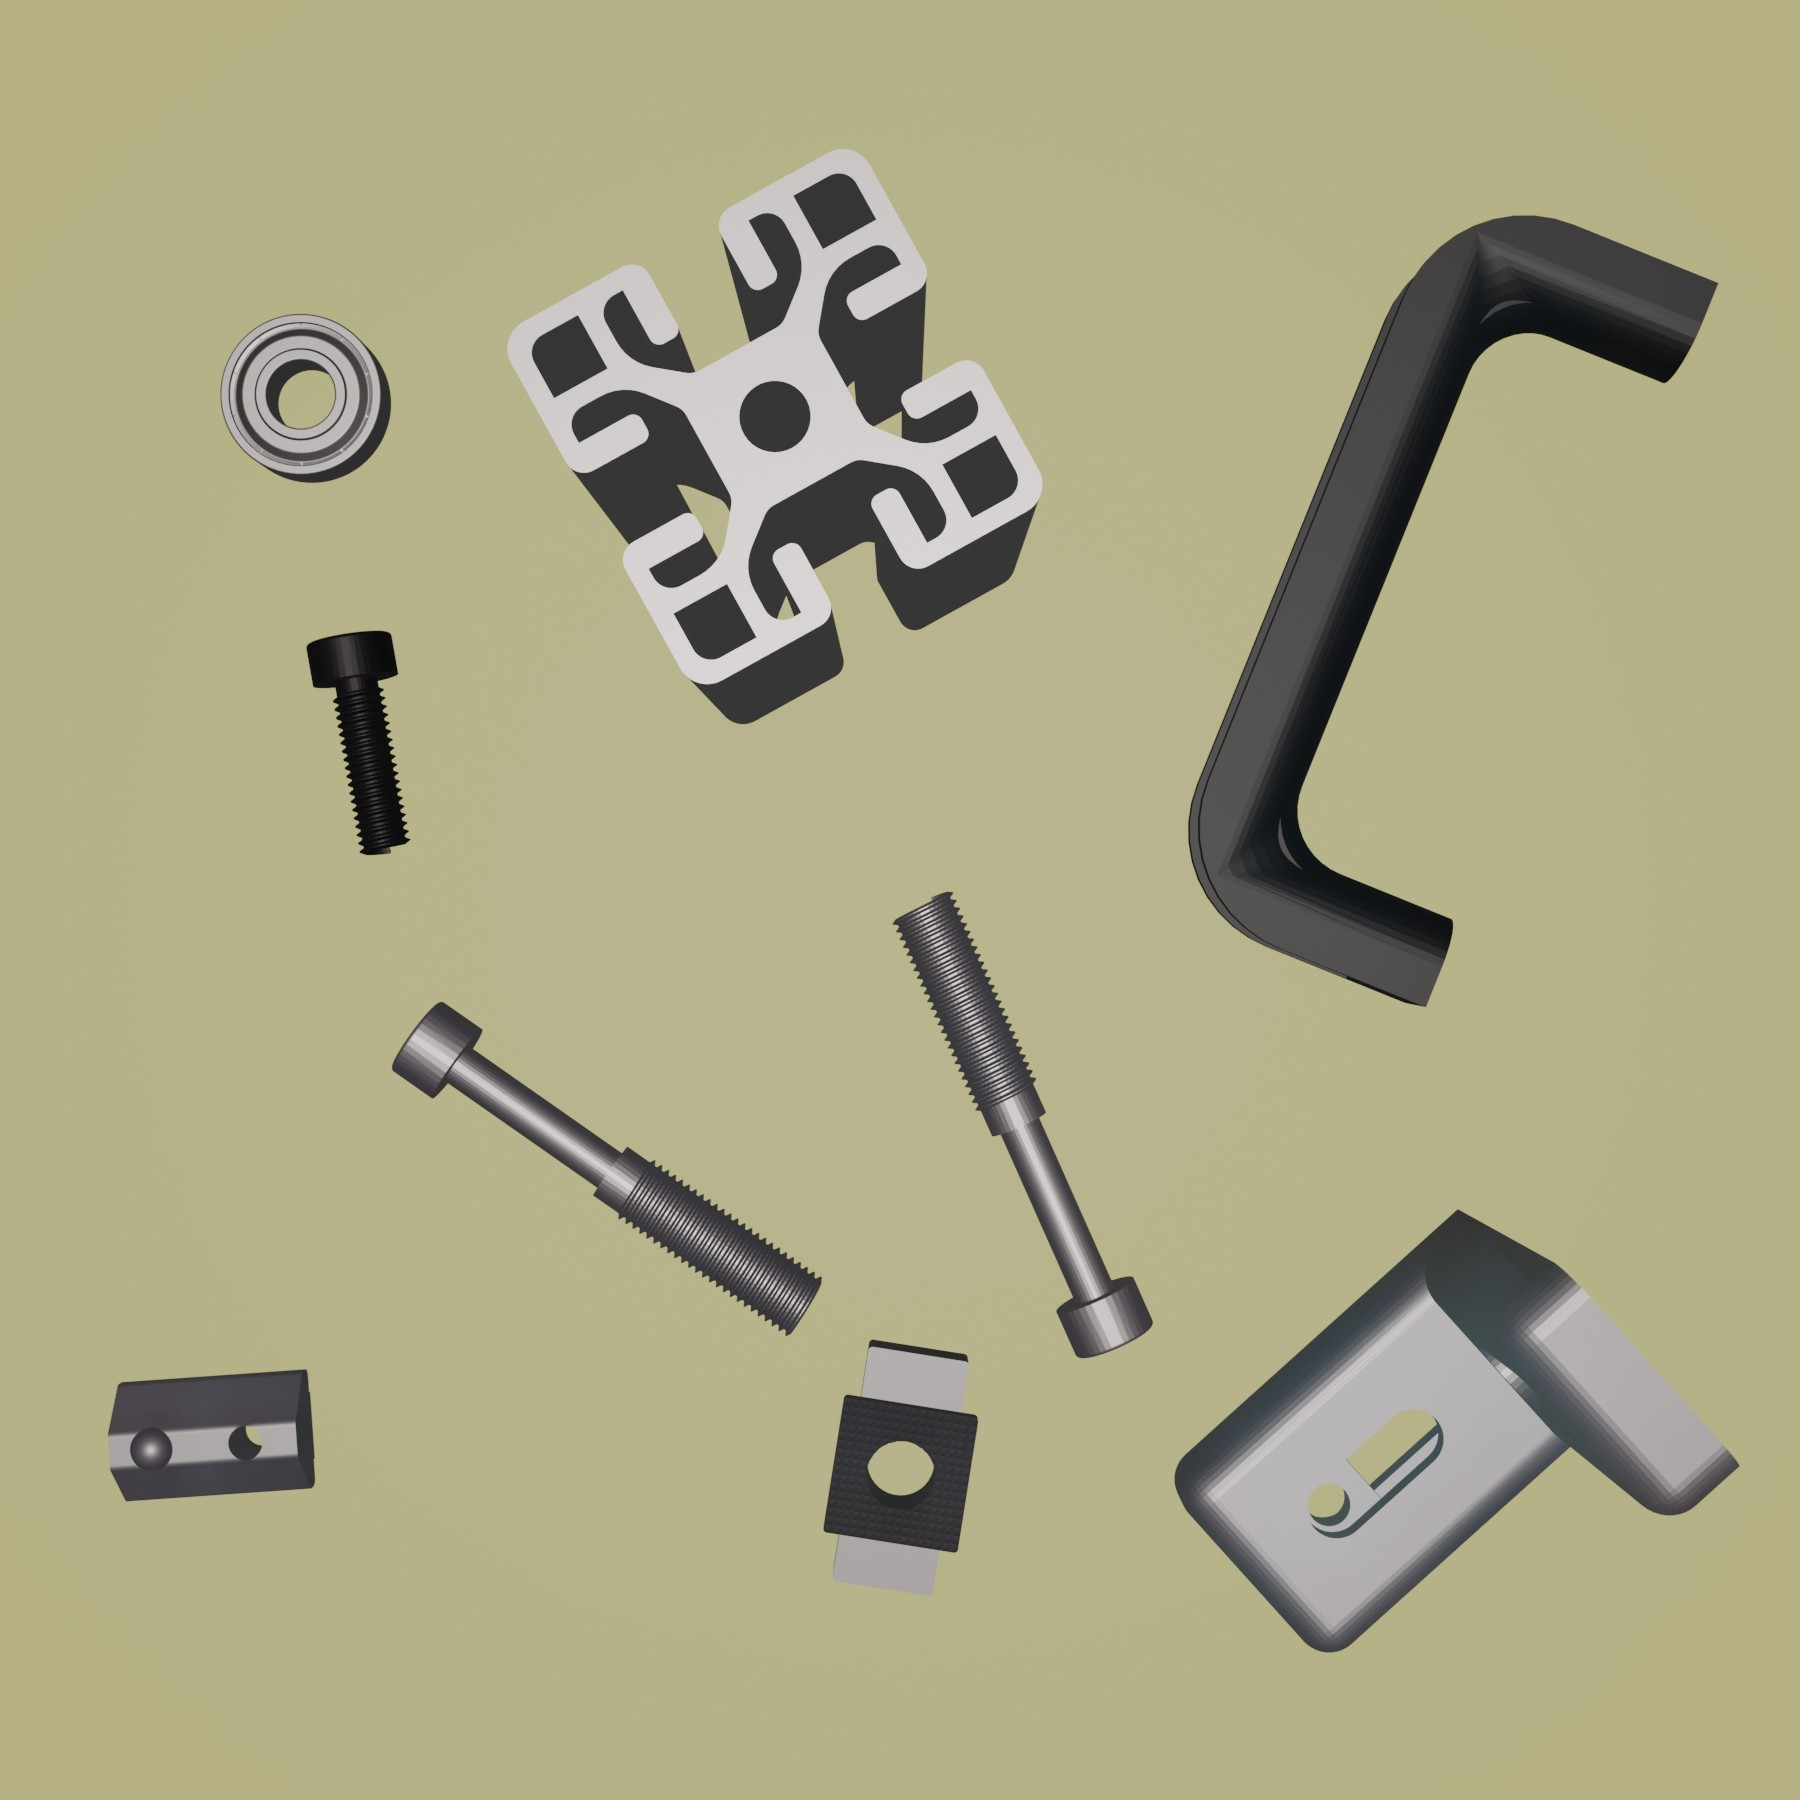Aluminium Extension: (504, 147, 1047, 727)
Ball Bearing: (218, 308, 392, 485)
Multiwinkel: (1175, 1203, 1742, 1653)
Pull Handle: (1185, 211, 1719, 1010)
Shoulder Socket Head Cap Screw: (387, 996, 823, 1338), (890, 882, 1152, 1358)
Socket Head Cap Screw: (302, 626, 412, 859)
T Nut Square: (821, 1330, 979, 1601)
T Spring Nut: (104, 1363, 316, 1505)
